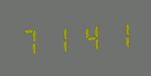four: (74, 20, 101, 54)
one: (46, 22, 73, 56), (102, 18, 129, 52)
seven: (18, 24, 45, 58)
